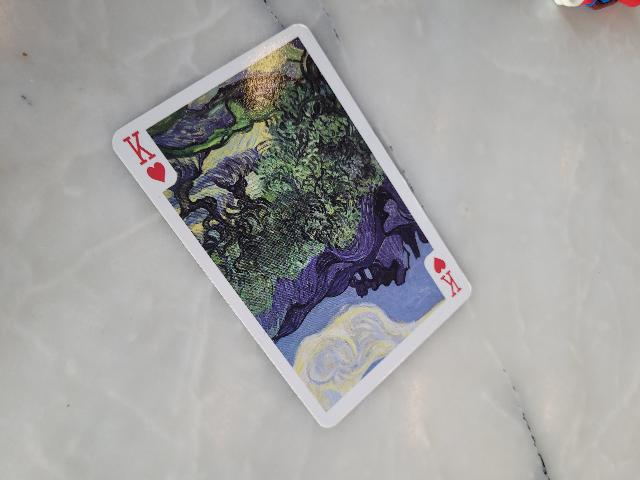Kagit: (107, 19, 478, 436)
